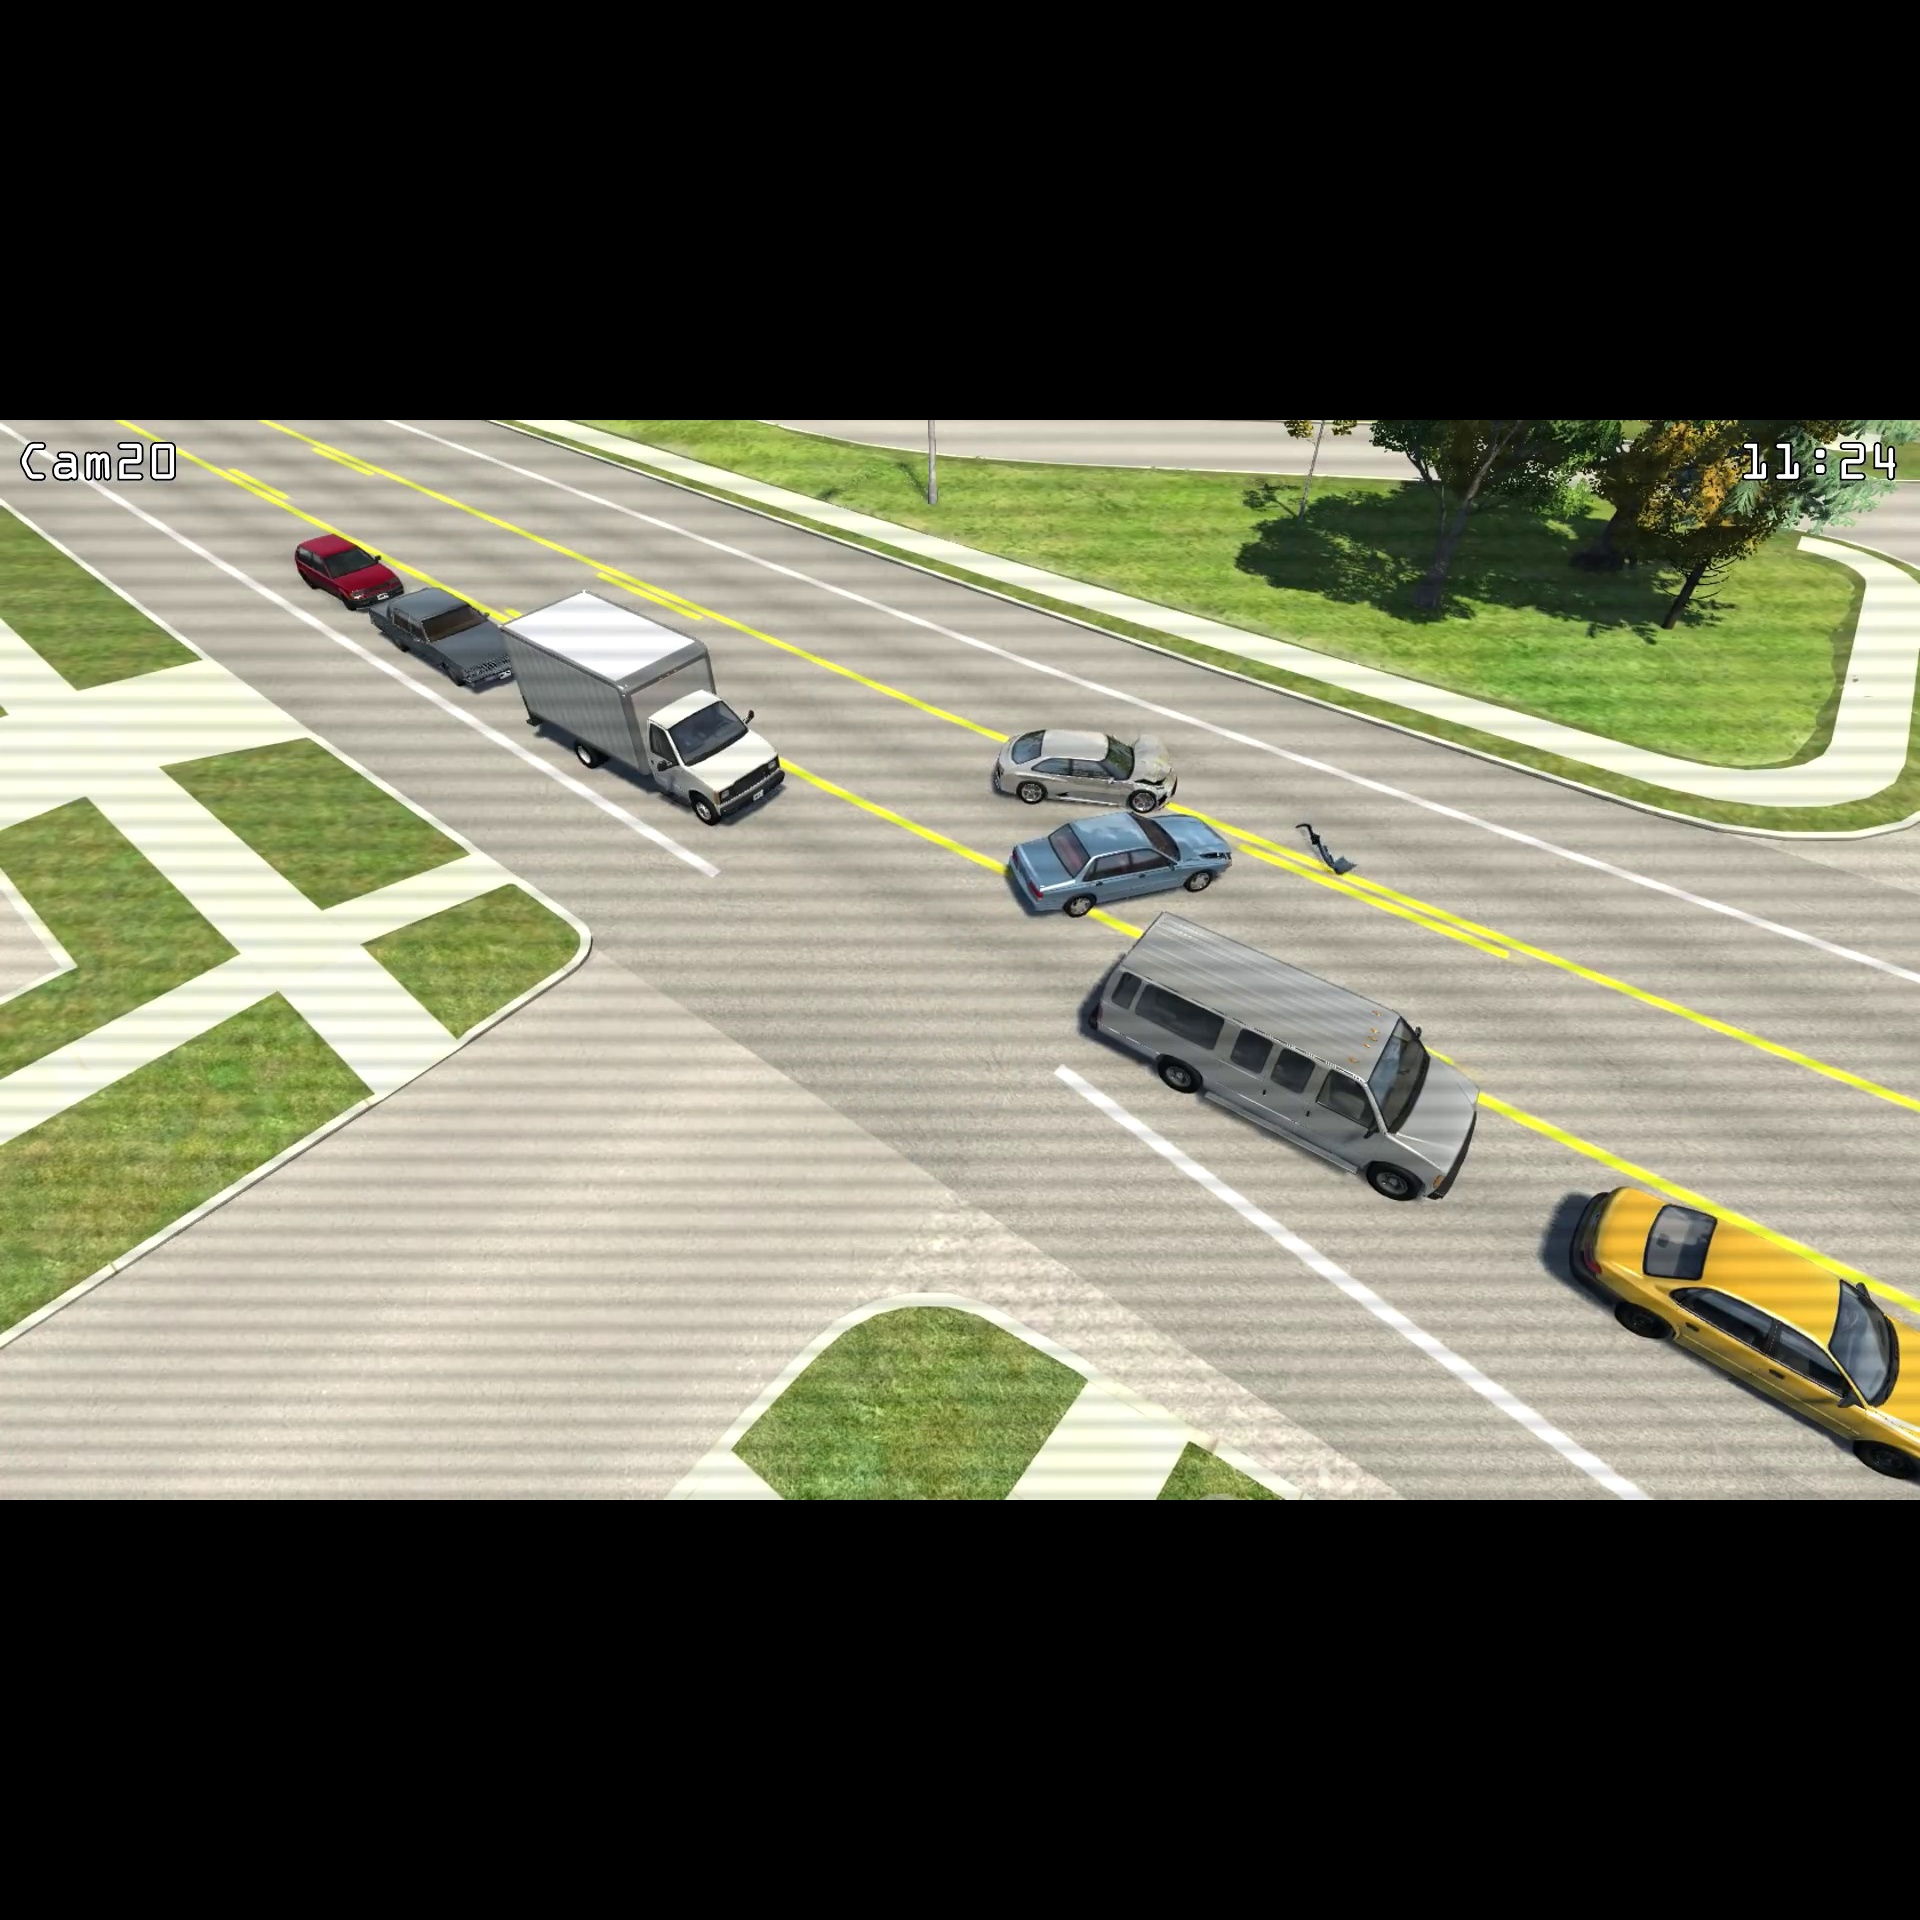vehicle: (1078, 900, 1487, 1211), (1558, 1175, 1920, 1480), (496, 584, 798, 835), (1004, 804, 1241, 923), (986, 717, 1183, 819), (366, 577, 522, 698), (288, 524, 406, 614)
